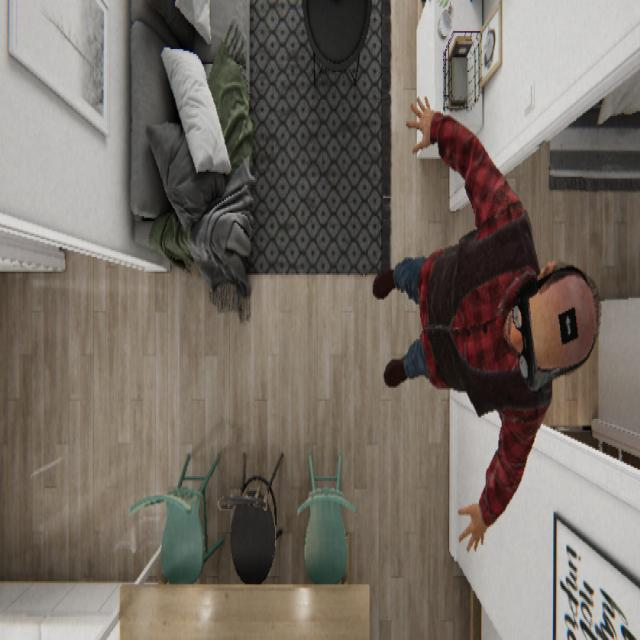Human: (371, 94, 601, 554)
UnityLogo: (557, 303, 579, 345)
